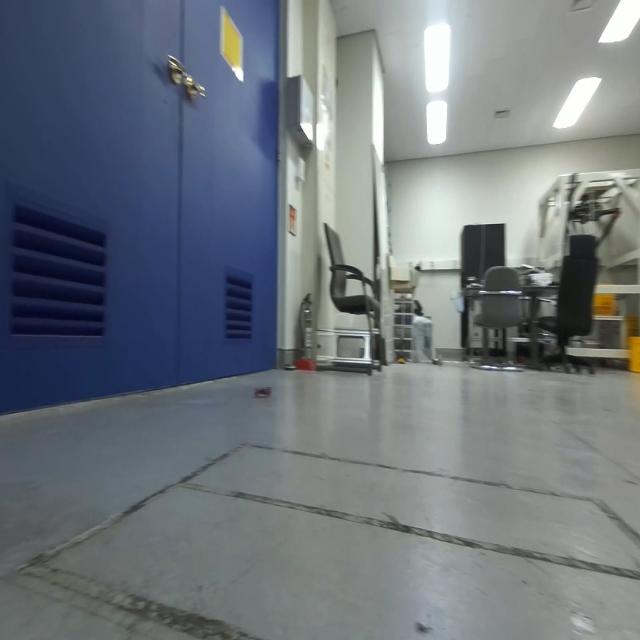crazyflie: (251, 380, 274, 404)
